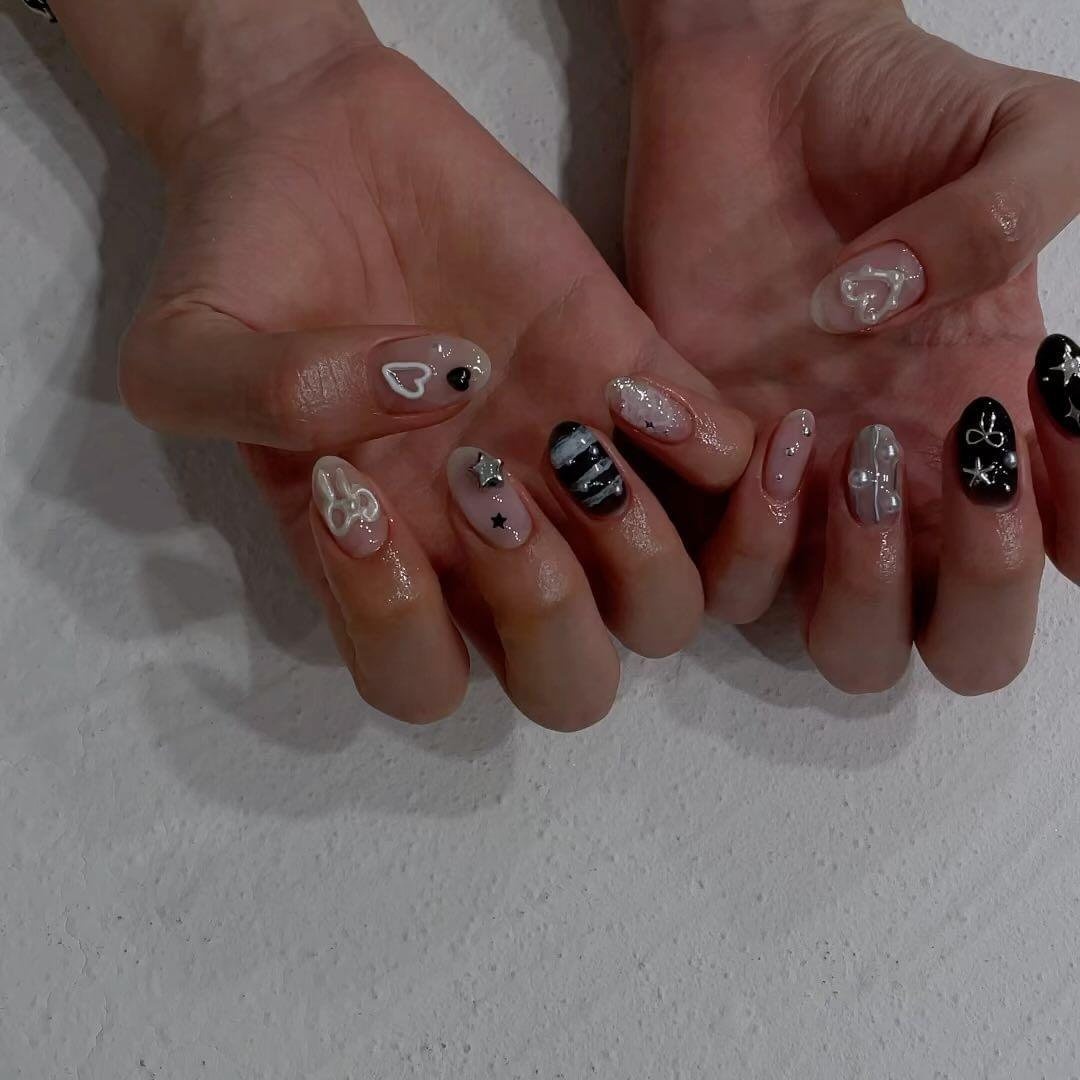nail: (809, 238, 926, 335), (366, 332, 491, 416), (444, 445, 533, 550), (310, 454, 389, 559), (546, 420, 629, 519), (955, 395, 1019, 503), (605, 373, 696, 445), (845, 422, 903, 525), (760, 406, 815, 507), (1032, 332, 1078, 438)
